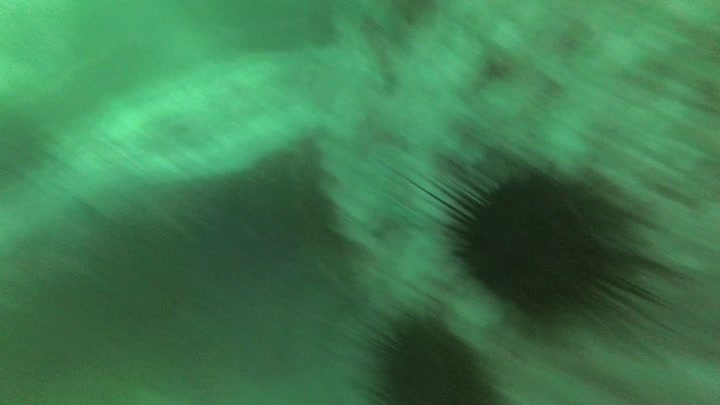echinus: (388, 136, 691, 349), (348, 306, 513, 405)
